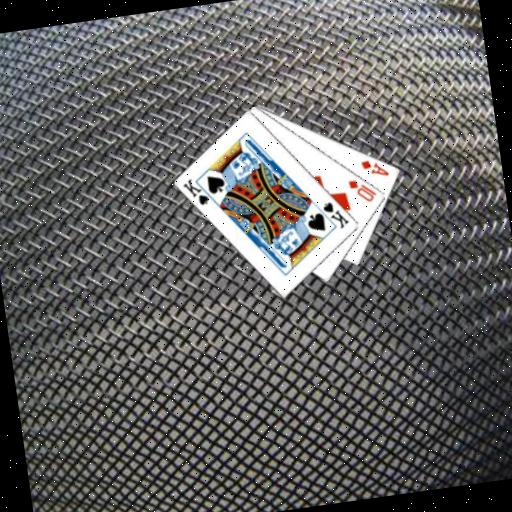10D: (345, 174, 379, 205)
AD: (358, 154, 392, 181)
KS: (179, 173, 217, 210), (319, 197, 352, 233)
